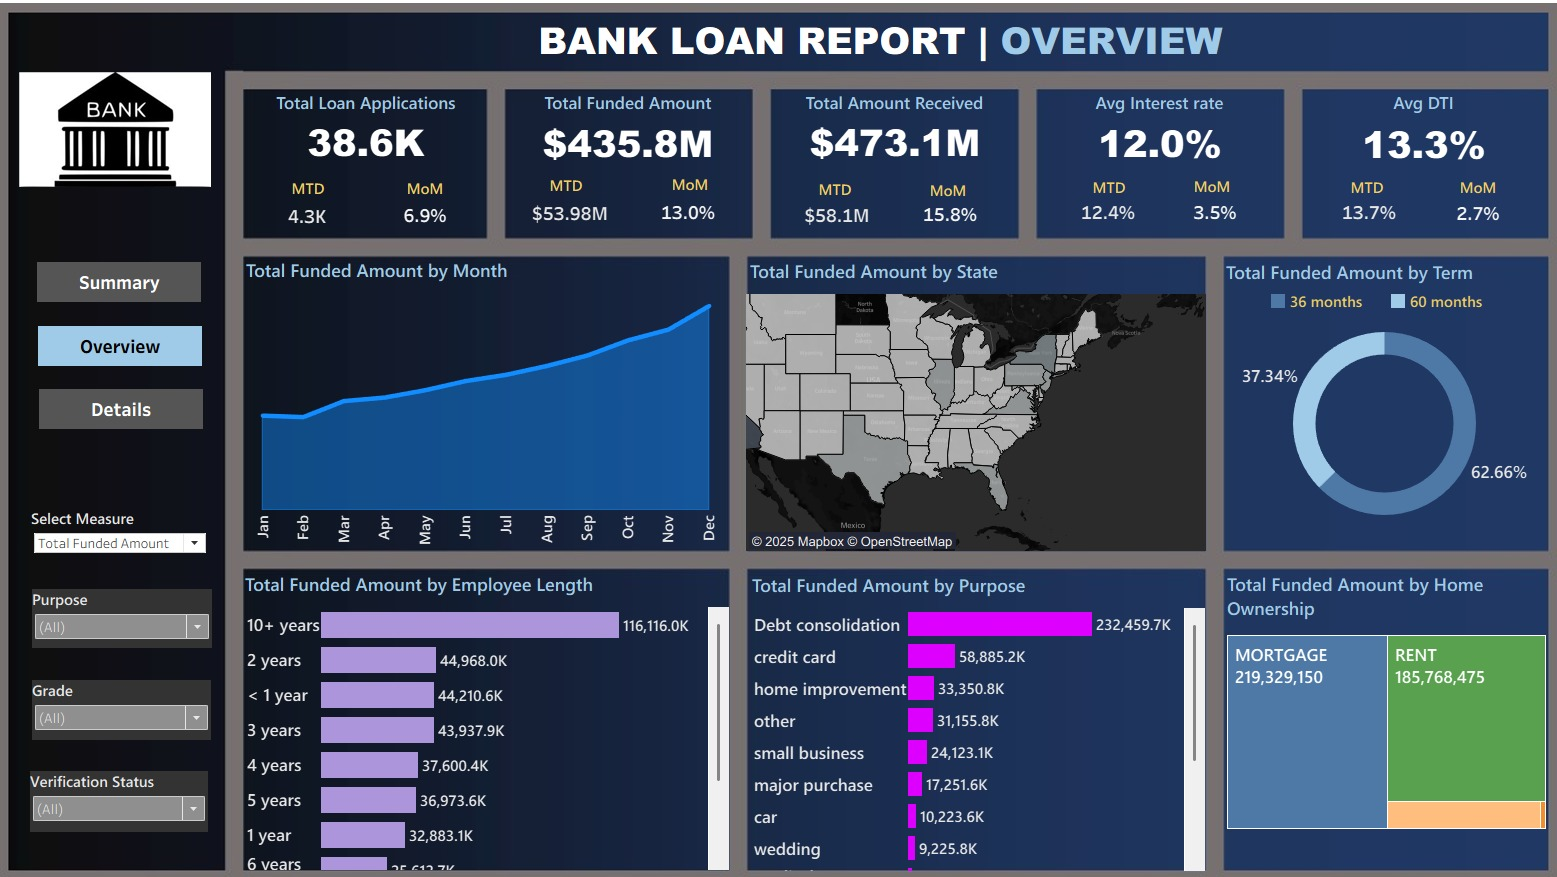

Layout of this report page (visuals, bound fields, positions):
{"tool":"tableau","page":{"name":"OVERVIEW","canvas":[1600,900],"ordinal":1},"visuals":[{"type":"image","param":"Image/Tableau Background 2.jpg","box":[8,8,1584,884]},{"type":"text","box":[556,24,694,50]},{"type":"image","param":"Image/bank logo.jpg","box":[40,81,193,115]},{"type":"worksheet","title":"Total Loan Applications","mark":"Automatic","box":[264,96,246,72]},{"type":"worksheet","title":"Total Funded Amount","mark":"Automatic","box":[525,96,248,73]},{"type":"worksheet","title":"Total Amount Received","mark":"Automatic","box":[793,96,245,72]},{"type":"worksheet","title":"Avg Interest rate","mark":"Automatic","box":[1056,96,249,74]},{"type":"worksheet","title":"Avg DTI","mark":"Automatic","box":[1322,96,245,76]},{"type":"text","box":[661,178,100,30]},{"type":"text","box":[537,179,100,30]},{"type":"text","box":[1183,180,100,30]},{"type":"text","box":[1080,181,100,30]},{"type":"text","box":[1338,181,100,30]},{"type":"text","box":[1449,181,100,30]},{"type":"text","box":[279,182,100,30]},{"type":"text","box":[396,182,100,30]},{"type":"text","box":[806,183,100,30]},{"type":"text","box":[919,184,100,30]},{"type":"worksheet","title":"MTD Avg Interest Rate","mark":"Automatic","box":[1076,198,106,45]},{"type":"worksheet","title":"MoM Total Funded Amount","mark":"Automatic","box":[664,199,89,43]},{"type":"worksheet","title":"MoM Avg Interest Rate","mark":"Automatic","box":[1184,200,104,42]},{"type":"worksheet","title":"MTD Total Funded Amount","mark":"Automatic","box":[545,201,91,42]},{"type":"worksheet","title":"MTD Avg DTI","mark":"Automatic","box":[1340,201,100,40]},{"type":"worksheet","title":"MoM Avg DTI","mark":"Automatic","box":[1450,201,97,42]},{"type":"worksheet","title":"MoM Total Amount Received","mark":"Automatic","box":[916,203,109,40]},{"type":"worksheet","title":"MTD Total Amount Received","mark":"Automatic","box":[808,205,99,38]},{"type":"worksheet","title":"MoM Loan Applications","mark":"Automatic","box":[403,206,85,35]},{"type":"worksheet","title":"MTD Total Loan Applications","mark":"Automatic","box":[278,207,99,36]},{"type":"worksheet","title":"Month","mark":"Area","rows":["Calculation_1368249892655333423","Calculation_1368249892655333423"],"cols":["issue_date"],"box":[263,263,487,296]},{"type":"worksheet","title":"State","mark":"Multipolygon","box":[767,264,460,296]},{"type":"worksheet","title":"Term","mark":"Pie","rows":["Calculation_1368249892672127025","Calculation_1368249892672184371"],"box":[1243,265,325,296]},{"type":"dashboard-object","box":[58,271,164,40]},{"type":"legend","title":"Term","param":"[federated.17a3cjb1kal9qm1h4xumb0o6jc69].[none:term:nk]","box":[1289,300,246,23]},{"type":"dashboard-object","box":[59,335,164,40]},{"type":"dashboard-object","box":[60,398,164,40]},{"type":"parameter","param":"[Parameters].[Parameter 1]","box":[52,517,178,48]},{"type":"worksheet","title":"Emp Length","mark":"Automatic","rows":["emp_length"],"cols":["Calculation_1368249892655333423"],"box":[262,577,488,302]},{"type":"worksheet","title":"Home Ownersip","mark":"Automatic","box":[1244,577,326,302]},{"type":"worksheet","title":"Purpose","mark":"Automatic","rows":["purpose"],"cols":["Calculation_1368249892655333423"],"box":[769,578,457,302]},{"type":"filter","title":"Avg DTI","param":"[federated.17a3cjb1kal9qm1h4xumb0o6jc69].[none:purpose:nk]","box":[53,598,180,59]},{"type":"filter","title":"Avg DTI","param":"[federated.17a3cjb1kal9qm1h4xumb0o6jc69].[none:grade:nk]","box":[53,689,179,60]},{"type":"filter","title":"Avg DTI","param":"[federated.17a3cjb1kal9qm1h4xumb0o6jc69].[none:verification_status:nk]","box":[51,780,178,61]}]}

Visuals, with their boxes in screenshot pixels (x1, y1, x2, y2), scaled from the page's 1600x900 canvas onto the 1557x877 screenshot:
image: [8,8,1549,869]
text: [541,23,1216,72]
image: [39,79,227,191]
"Total Loan Applications" worksheet: [257,94,496,164]
"Total Funded Amount" worksheet: [511,94,752,165]
"Total Amount Received" worksheet: [772,94,1010,164]
"Avg Interest rate" worksheet: [1028,94,1270,166]
"Avg DTI" worksheet: [1286,94,1525,168]
text: [643,173,741,203]
text: [523,174,620,204]
text: [1151,175,1249,205]
text: [1051,176,1148,206]
text: [1302,176,1399,206]
text: [1410,176,1507,206]
text: [272,177,369,207]
text: [385,177,483,207]
text: [784,178,882,208]
text: [894,179,992,209]
"MTD Avg Interest Rate" worksheet: [1047,193,1150,237]
"MoM Total Funded Amount" worksheet: [646,194,733,236]
"MoM Avg Interest Rate" worksheet: [1152,195,1253,236]
"MTD Total Funded Amount" worksheet: [530,196,619,237]
"MTD Avg DTI" worksheet: [1304,196,1401,235]
"MoM Avg DTI" worksheet: [1411,196,1505,237]
"MoM Total Amount Received" worksheet: [891,198,997,237]
"MTD Total Amount Received" worksheet: [786,200,883,237]
"MoM Loan Applications" worksheet: [392,201,475,235]
"MTD Total Loan Applications" worksheet: [271,202,367,237]
"Month" worksheet (Area marks): [256,256,730,545]
"State" worksheet (Multipolygon marks): [746,257,1194,546]
"Term" worksheet (Pie marks): [1210,258,1526,547]
dashboard-object: [56,264,216,303]
"Term" legend: [1254,292,1494,315]
dashboard-object: [57,326,217,365]
dashboard-object: [58,388,218,427]
parameter: [51,504,224,551]
"Emp Length" worksheet: [255,562,730,857]
"Home Ownersip" worksheet: [1211,562,1528,857]
"Purpose" worksheet: [748,563,1193,858]
"Avg DTI" filter: [52,583,227,640]
"Avg DTI" filter: [52,671,226,730]
"Avg DTI" filter: [50,760,223,820]
